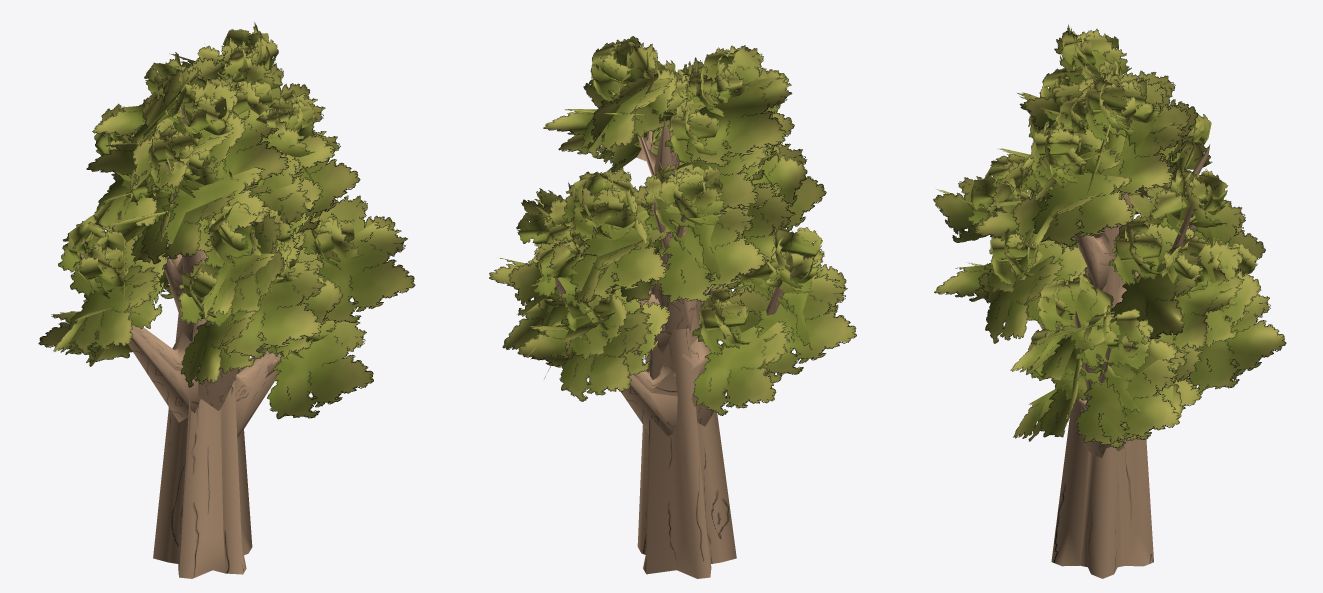
The model's file is tree_a_LOD1.fbx.
3 views of the same model, side by side, from view 1: azimuth 30°, elevation 25°; view 2: azimuth 150°, elevation 25°; view 3: azimuth 270°, elevation 25° (orthographic).
Parts seen in each view (by area): view 1: tree_a_LOD1; view 2: tree_a_LOD1; view 3: tree_a_LOD1.
Boxes of the visible parts, x1,y1,x2,y2 form: tree_a_LOD1: (38, 22, 415, 578); tree_a_LOD1: (489, 36, 856, 578); tree_a_LOD1: (933, 24, 1286, 578).
Size of the model in its own units: 491 by 657 by 450.
